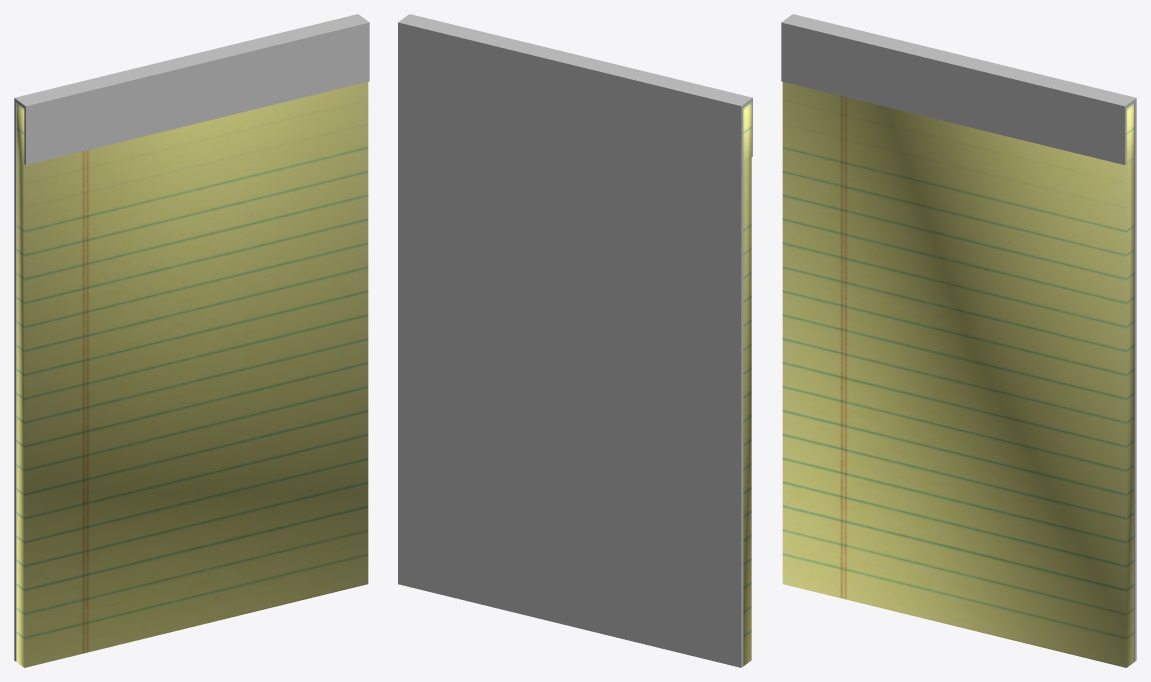
Rendered from pad.fbx.
The picture shows the model from 3 angles, left to right: view 1: azimuth 30°, elevation 25°; view 2: azimuth 150°, elevation 25°; view 3: azimuth 330°, elevation 25°; orthographic projection.
Parts seen in each view (by area): view 1: PAD-OF-PAP, PAD-OF-PA0; view 2: PAD-OF-PA0, PAD-OF-PAP; view 3: PAD-OF-PAP, PAD-OF-PA0.
Part boxes in pixels (x1,y1,x2,y2): PAD-OF-PAP: [16, 82, 368, 667]; PAD-OF-PA0: [14, 14, 369, 661]; PAD-OF-PA0: [398, 14, 752, 667]; PAD-OF-PAP: [743, 102, 751, 666]; PAD-OF-PAP: [782, 82, 1134, 667]; PAD-OF-PA0: [781, 14, 1136, 661].
Size of the model in its own units: 5 by 7.82 by 0.2921.
